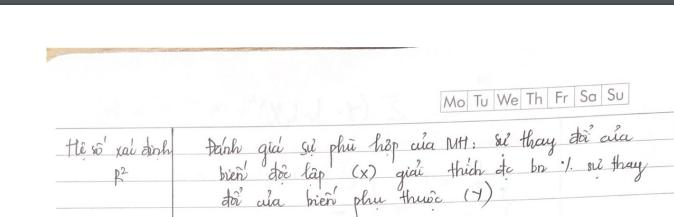text: (205, 122, 634, 167), (217, 153, 650, 185), (220, 179, 493, 217), (442, 88, 627, 110), (63, 135, 173, 163), (112, 165, 130, 188)
